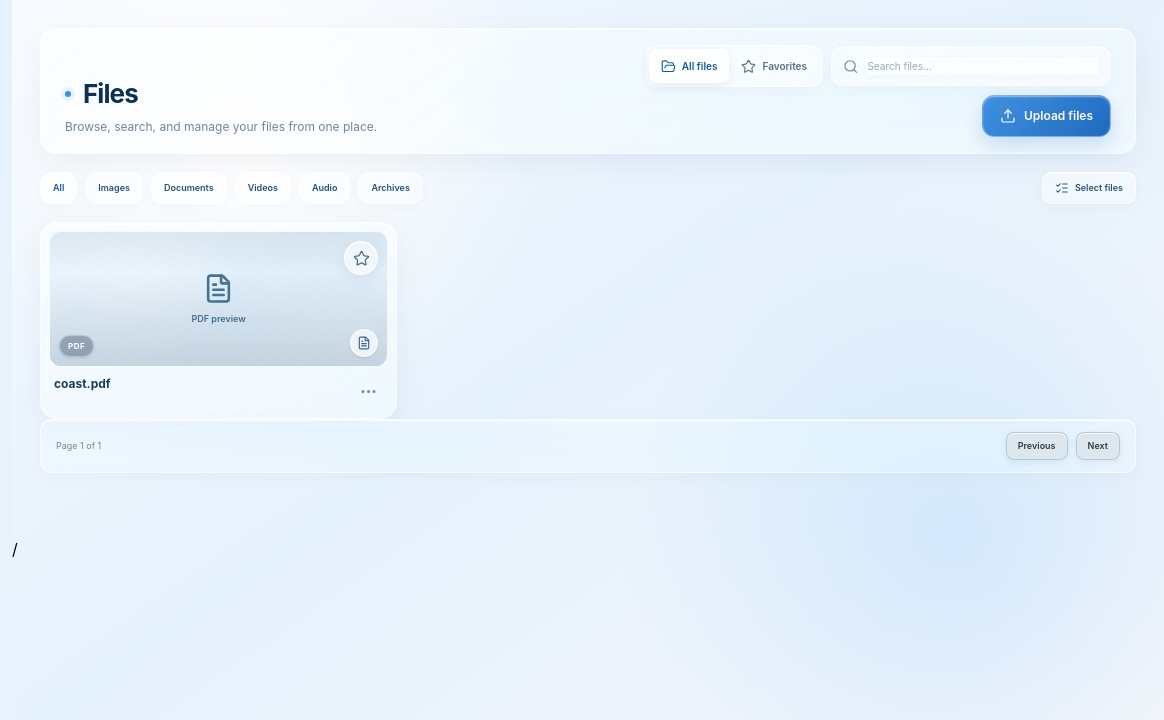
page workflows › clears selection and hides checkboxes when selection mode is canceled
The image size is (1164, 720).
Expected: the heading "coast.pdf" is shown, top-left (54, 376), bottom-right (110, 392)
Click the button "Select files" at (1089, 188), box top-left (1042, 172), bottom-right (1136, 204)
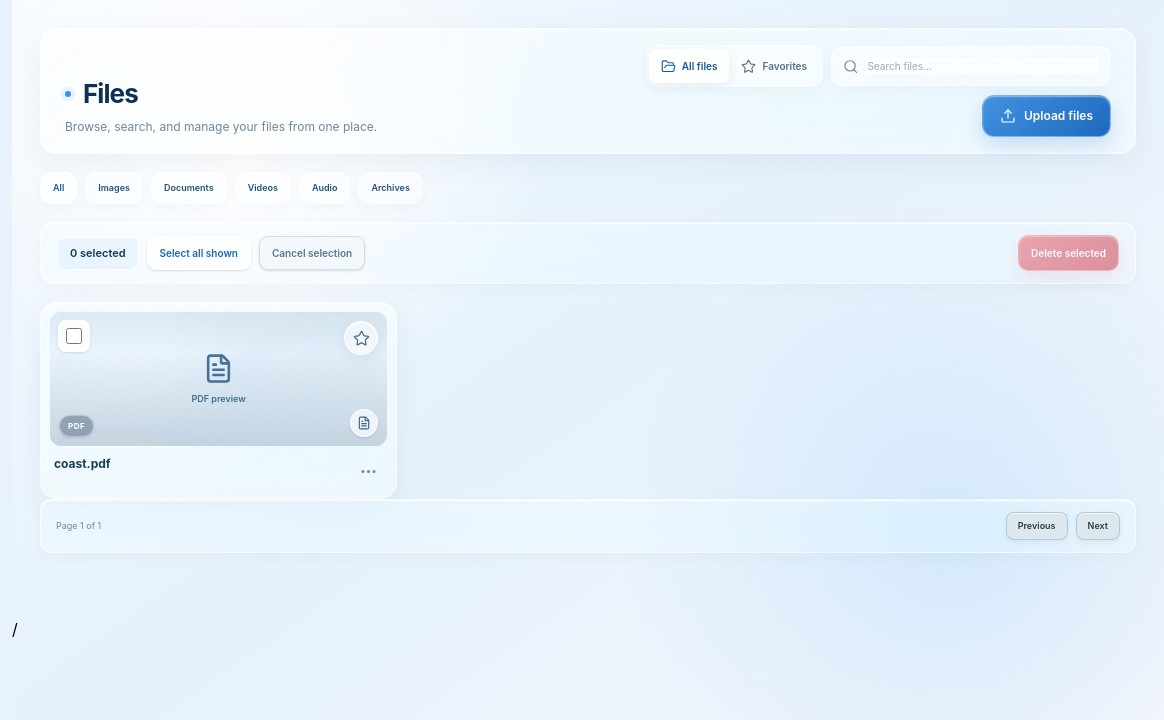
Click the checkbox named "Select coast.pdf" at (74, 336), box top-left (66, 328), bottom-right (82, 344)
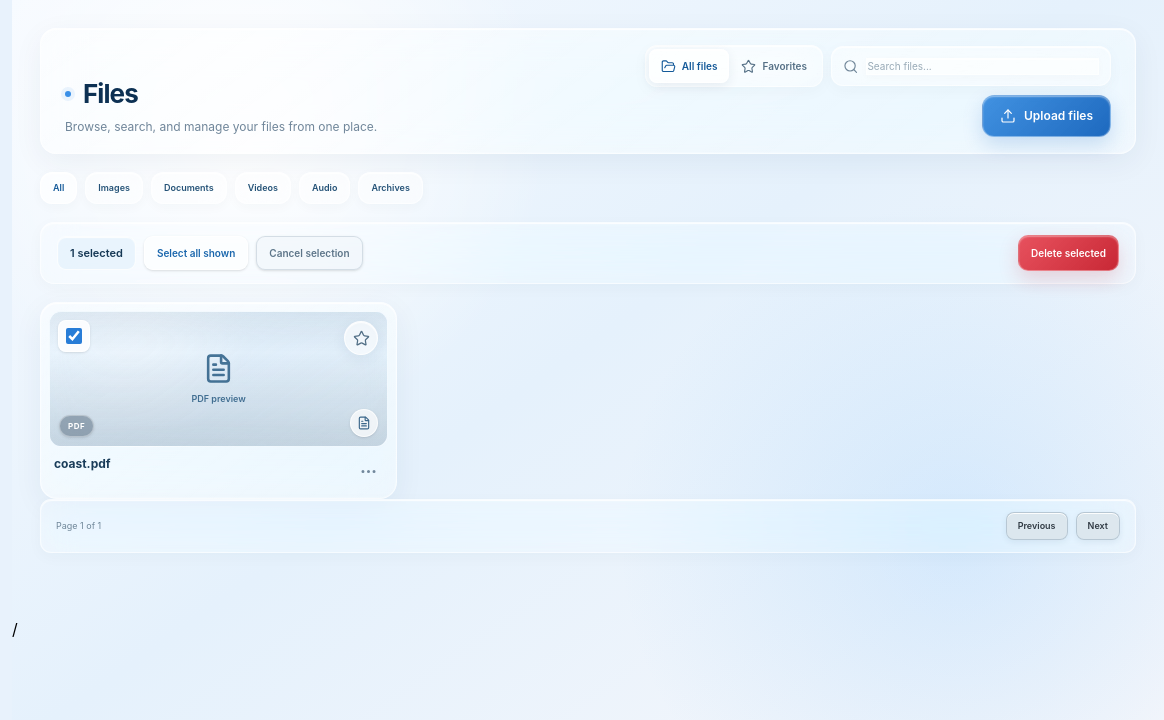
Click the button "Cancel selection" at (309, 253), box top-left (256, 236), bottom-right (362, 270)
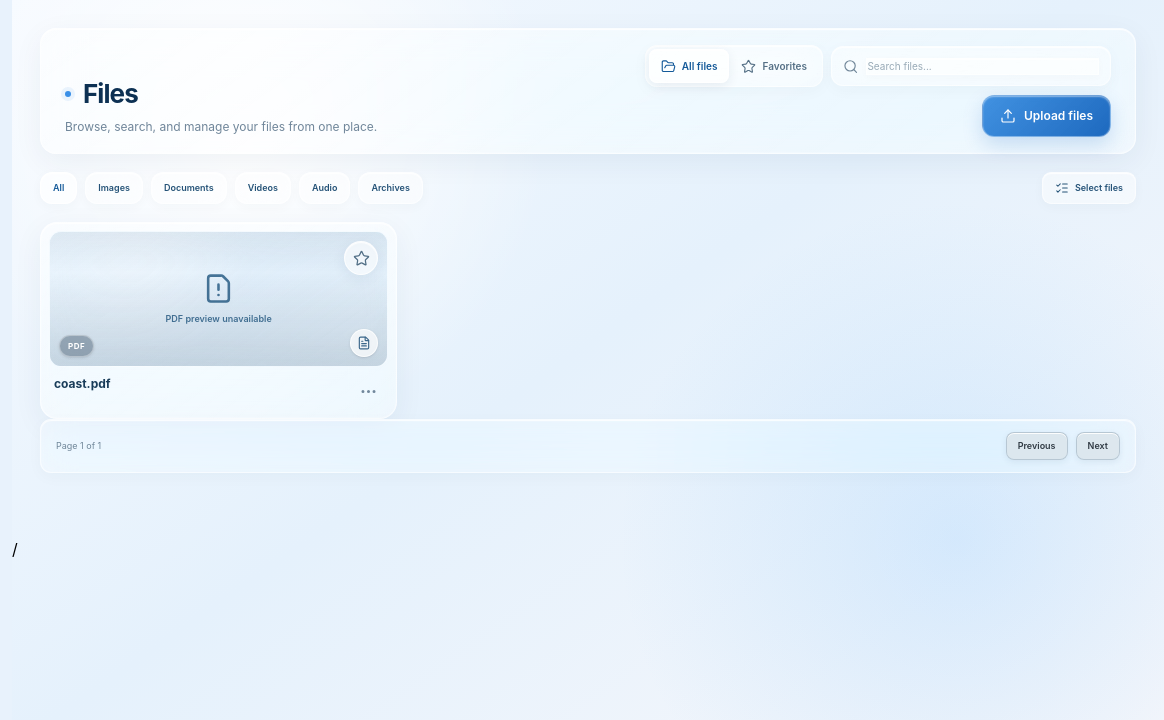
Expected: the text "1 selected" is gone
Expected: the button "Select files" is shown, top-left (1042, 172), bottom-right (1136, 204)
